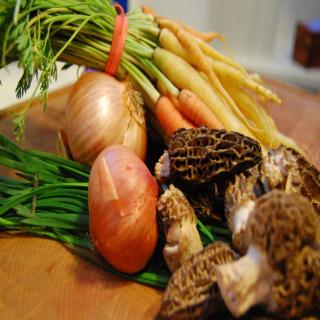Carrot: (94, 19, 292, 164)
